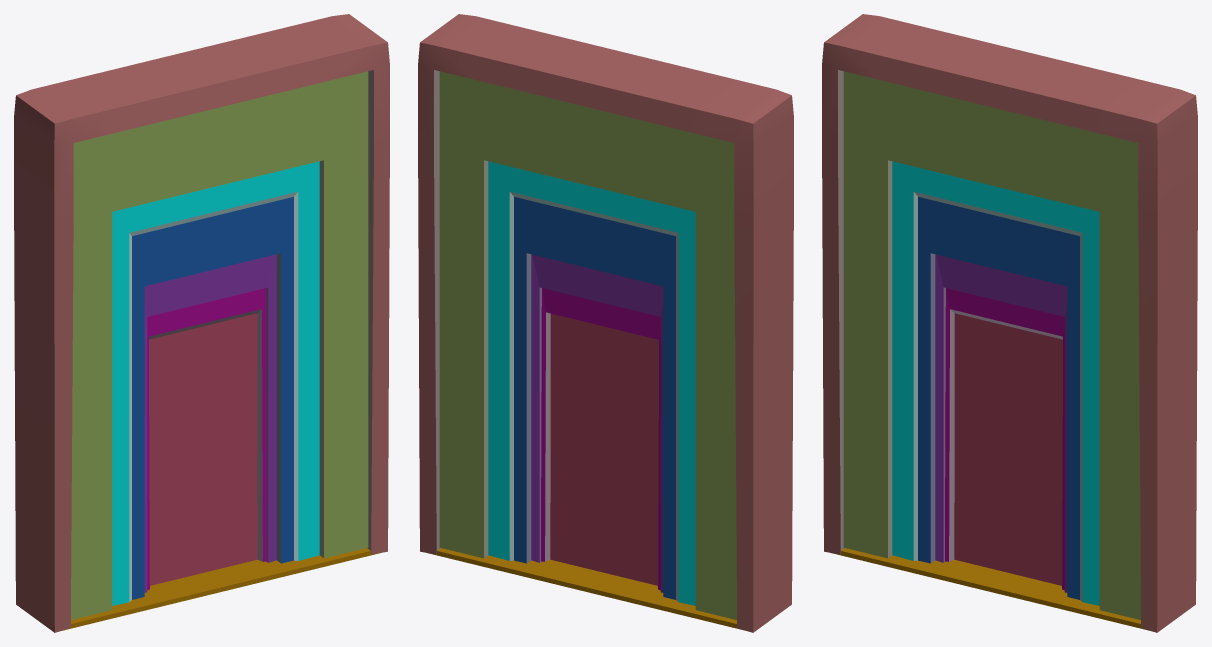
Rendered from porte.fbx.
3 renders of one model, left to right at view 1: azimuth 30°, elevation 25°; view 2: azimuth 150°, elevation 25°; view 3: azimuth 330°, elevation 25°, orthographic.
Visible parts, largest first — view 1: pCube4, pCube2; view 2: pCube4, pCube2; view 3: pCube4, pCube2.
Boxes of the visible parts, x1,y1,x2,y2 form: pCube4: (14,14,389,632); pCube2: (62,548,380,630); pCube4: (418,14,793,632); pCube2: (427,548,745,630); pCube4: (822,14,1197,632); pCube2: (831,548,1149,630).
Size of the model in its own units: 7.35 by 10.69 by 1.65.
